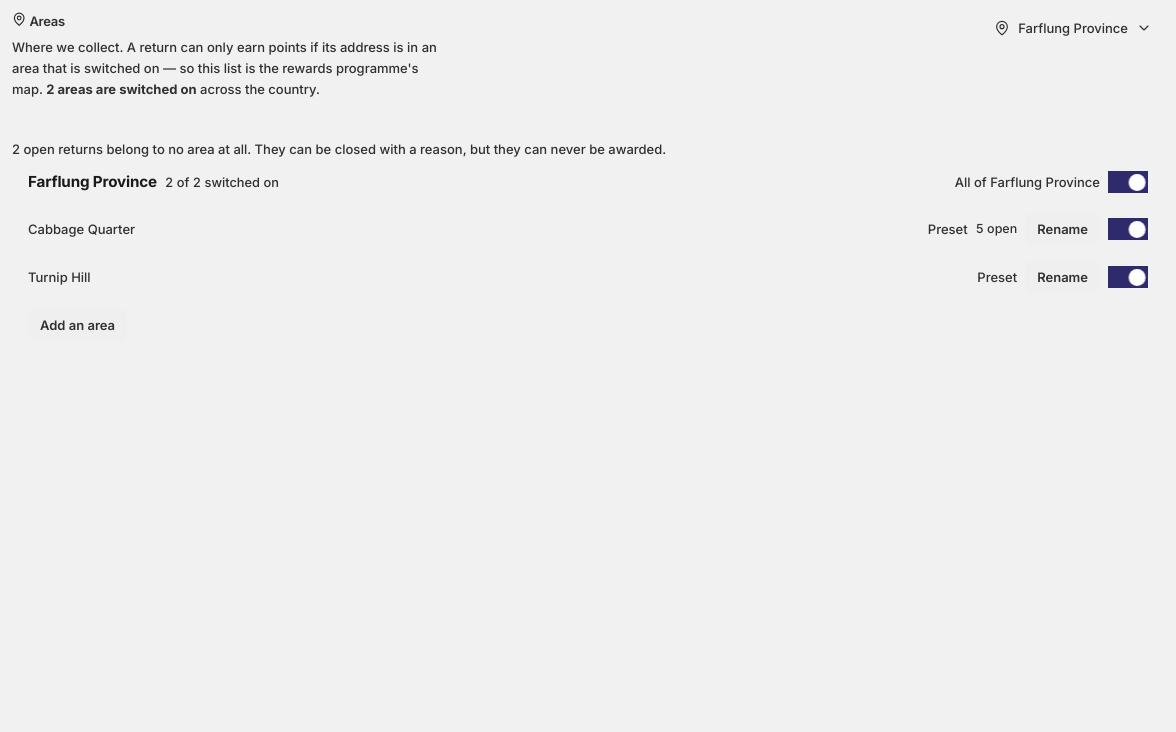
Test case: switching an area on and off › REFUSES to switch off a board with open returns, and says how many
The width and height of the screenshot is (1176, 732).
Check: the text "Cabbage Quarter" is shown, box [28,221,135,237]
Step 1. Click the switch named "Collect from Cabbage Quarter" → coordinates (1128, 229), box [1108,218,1148,240]
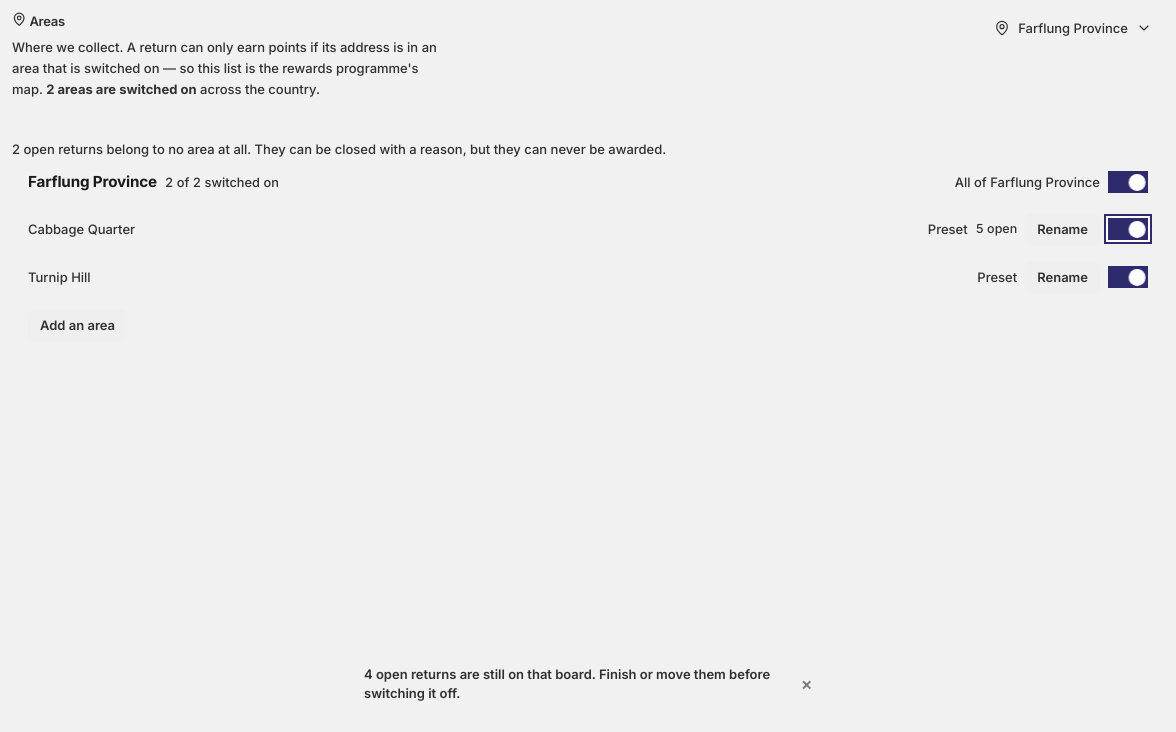
Check: the text "4 open returns are still on that board" is shown, box [364,666,770,700]
